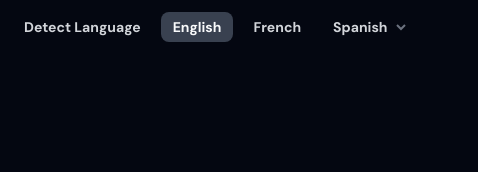
Test case: LanguageTabs › closes the dropdown when Escape is pressed
The width and height of the screenshot is (478, 172).
Click the button "Spanish".
click(371, 27)  # box [321,12,422,42]
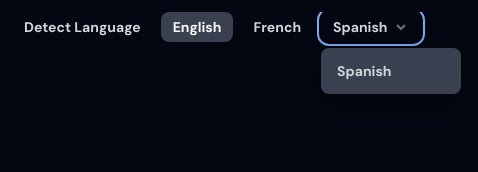
Now the list is shown, box [321,48,461,94]
Press Escape
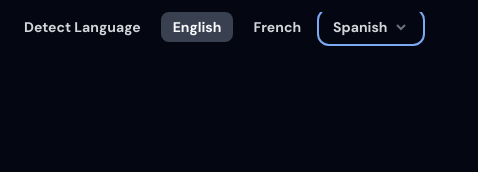
Now the list is gone
